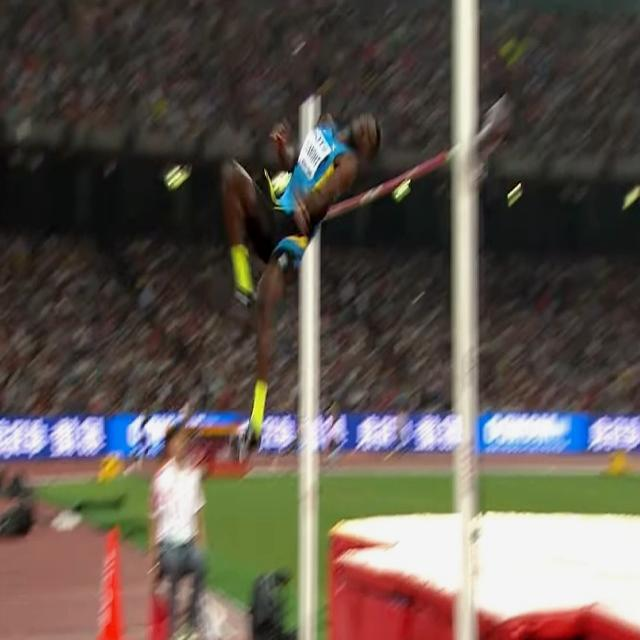jump: (221, 105, 383, 468)
